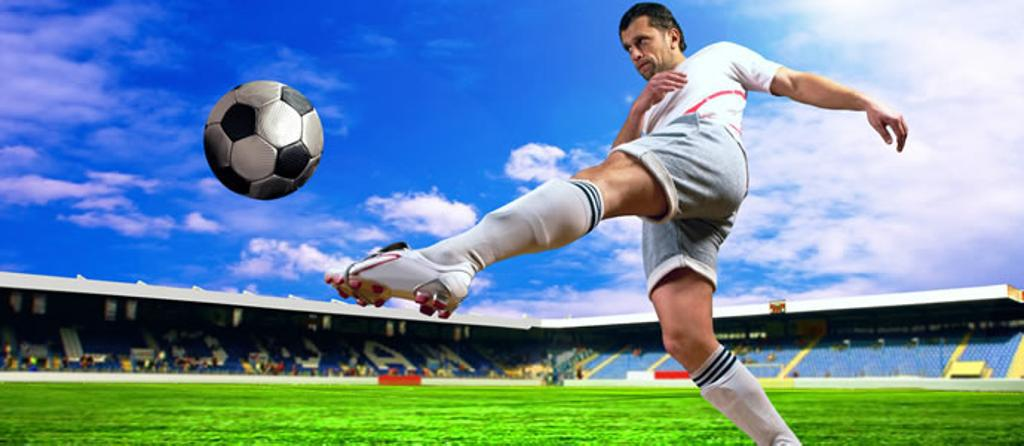face: (622, 22, 672, 80)
